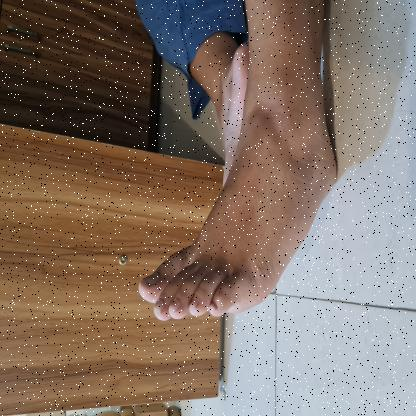leg: (133, 0, 339, 328)
